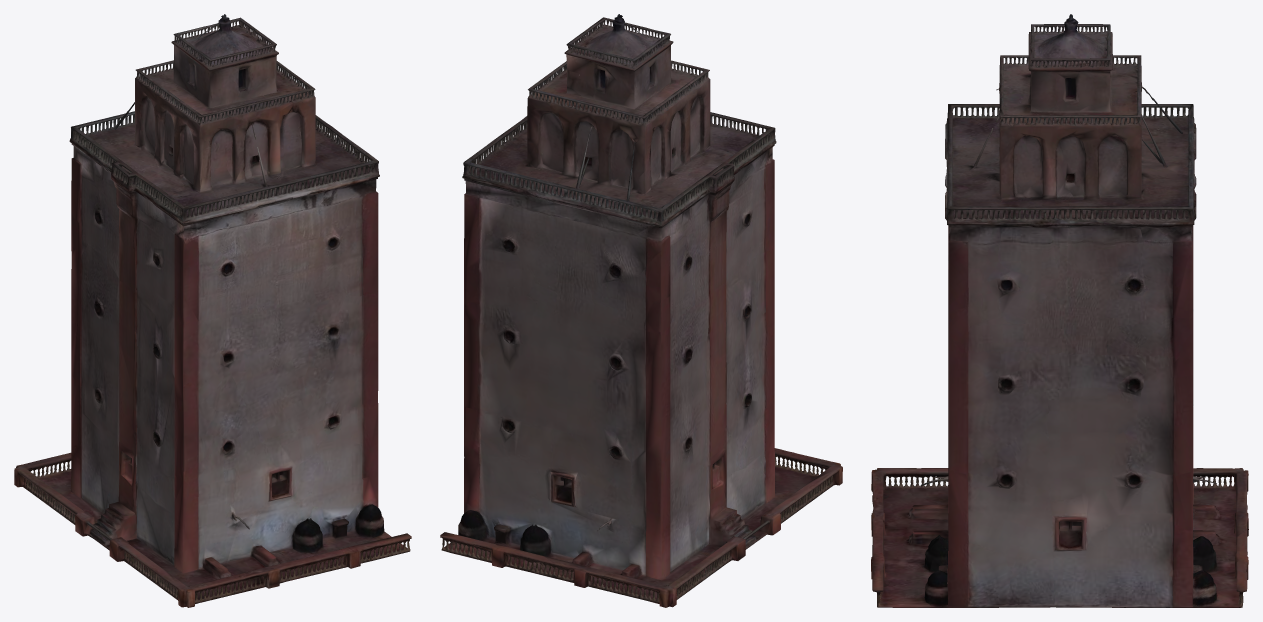
The model's file is lighthouse.glb.
The picture shows the model from 3 angles, left to right: view 1: azimuth 30°, elevation 25°; view 2: azimuth 150°, elevation 25°; view 3: azimuth 270°, elevation 25°; orthographic projection. The views are drawn at different scales.
Visible parts, largest first — view 1: model; view 2: model; view 3: model.
Part boxes in pixels (left/top/right/bottom): model: left=14, top=14, right=411, bottom=607; model: left=440, top=14, right=842, bottom=607; model: left=871, top=14, right=1248, bottom=607.
Size of the model in its own units: 0.4816 by 0.9798 by 0.6191.
Materials: 1 (1 with a texture image).
